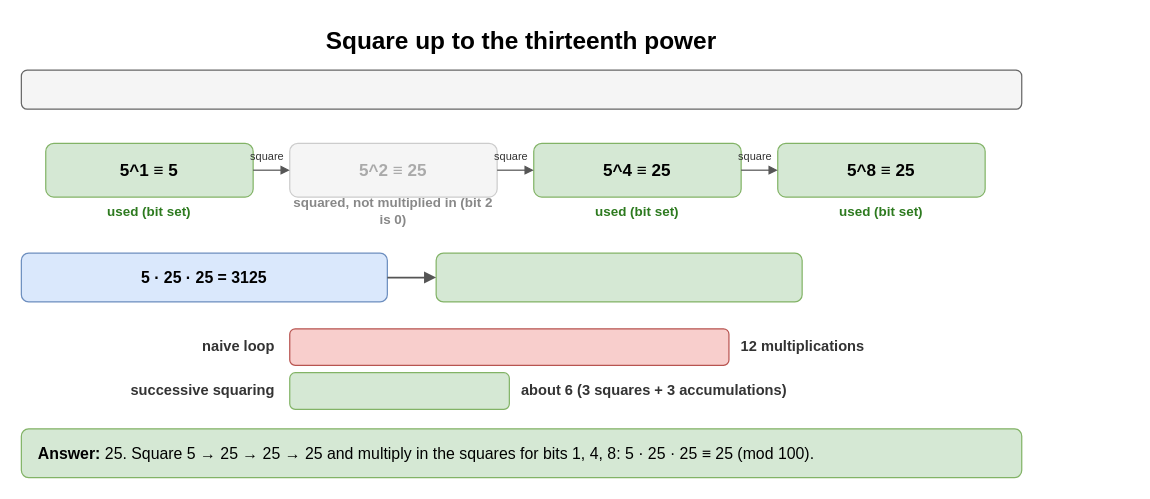
Image size: 1150x499. Some labels were removed from this diagram. The shapes that lost their labels are listed below. From the top down, each one's box as (x1, y1, x2, y2) in pixels, then its label:
(20, 69, 1022, 109): 5^13 mod 100 with 13 = 1101₂ = 8 + 4 + 1
(435, 252, 802, 302): 3125 mod 100 = 25
